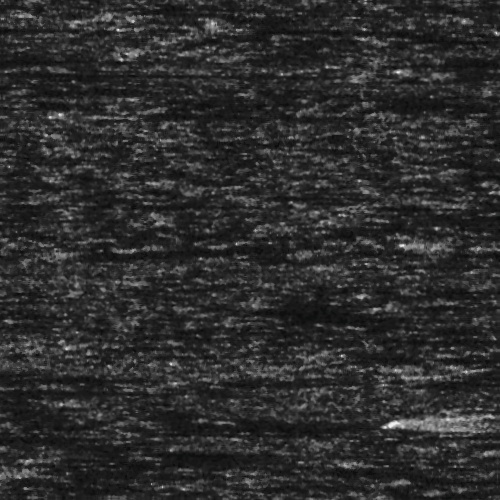object: (400, 409, 500, 428), (319, 196, 412, 213), (9, 464, 92, 477), (57, 245, 120, 262), (64, 110, 179, 119), (394, 239, 500, 248), (0, 455, 98, 464), (405, 369, 488, 378), (361, 300, 424, 309), (0, 67, 38, 78), (481, 83, 500, 92)
shadow: (88, 245, 328, 262), (0, 67, 300, 78), (366, 196, 500, 213), (46, 455, 270, 464), (51, 464, 200, 477), (122, 110, 283, 119), (0, 431, 91, 446), (457, 409, 500, 428), (393, 300, 477, 309), (446, 369, 500, 378), (451, 239, 500, 248), (0, 25, 60, 32), (0, 181, 45, 190), (0, 448, 32, 459)
